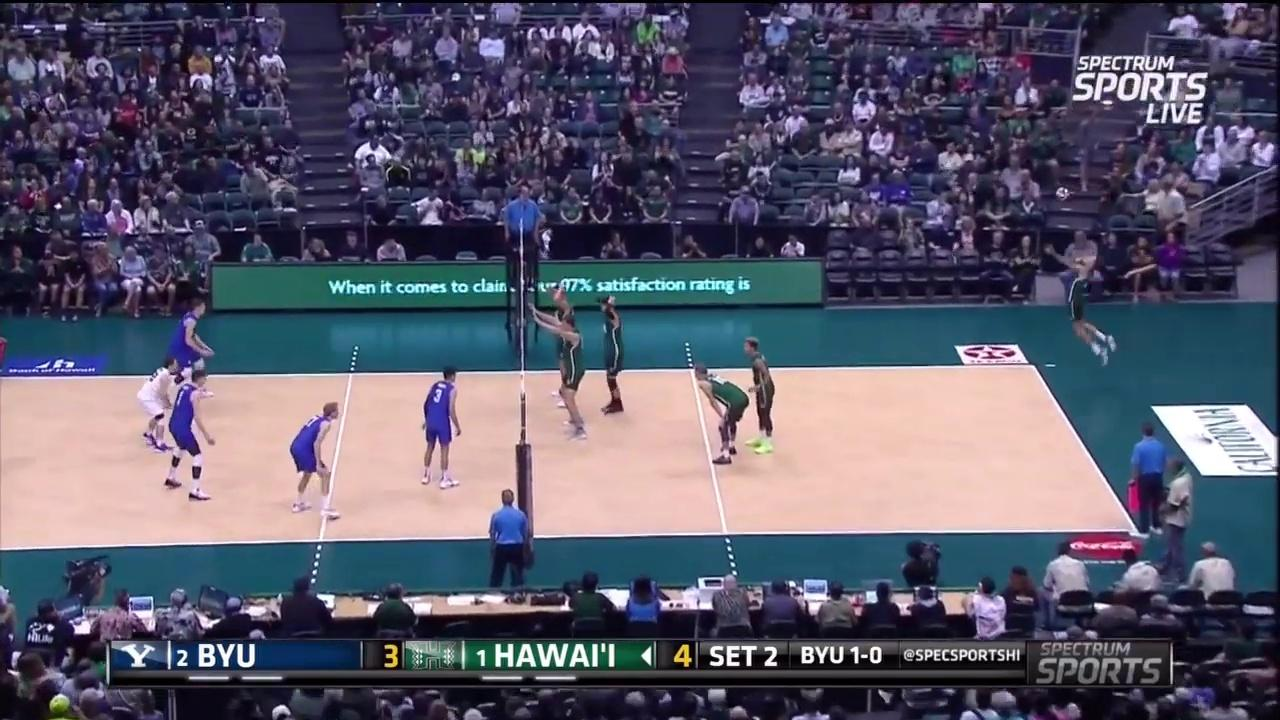player: (1050, 245, 1120, 367), (162, 369, 212, 500), (690, 363, 750, 464), (289, 402, 341, 515), (422, 366, 466, 490), (166, 299, 219, 397), (551, 316, 590, 441), (549, 284, 586, 408), (739, 338, 777, 457), (596, 296, 633, 416), (135, 358, 186, 444)
refree: (1124, 419, 1170, 538), (500, 183, 544, 286), (487, 489, 531, 589)
